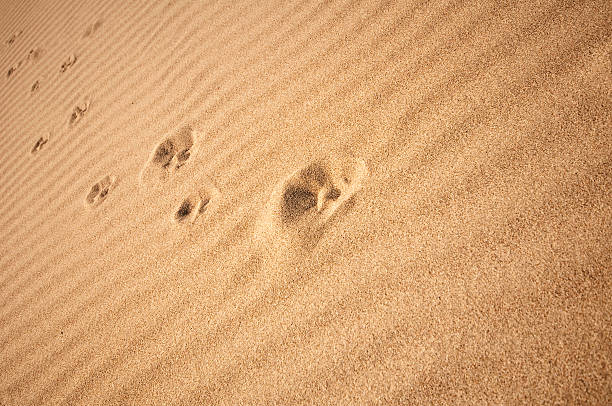animal_foot_print: (255, 155, 367, 247), (140, 125, 194, 183), (172, 181, 219, 222), (85, 174, 115, 206), (68, 100, 90, 124), (30, 135, 48, 153), (83, 20, 102, 37), (60, 54, 77, 73), (5, 30, 22, 44), (27, 48, 42, 61), (6, 66, 16, 78), (31, 80, 39, 92)
